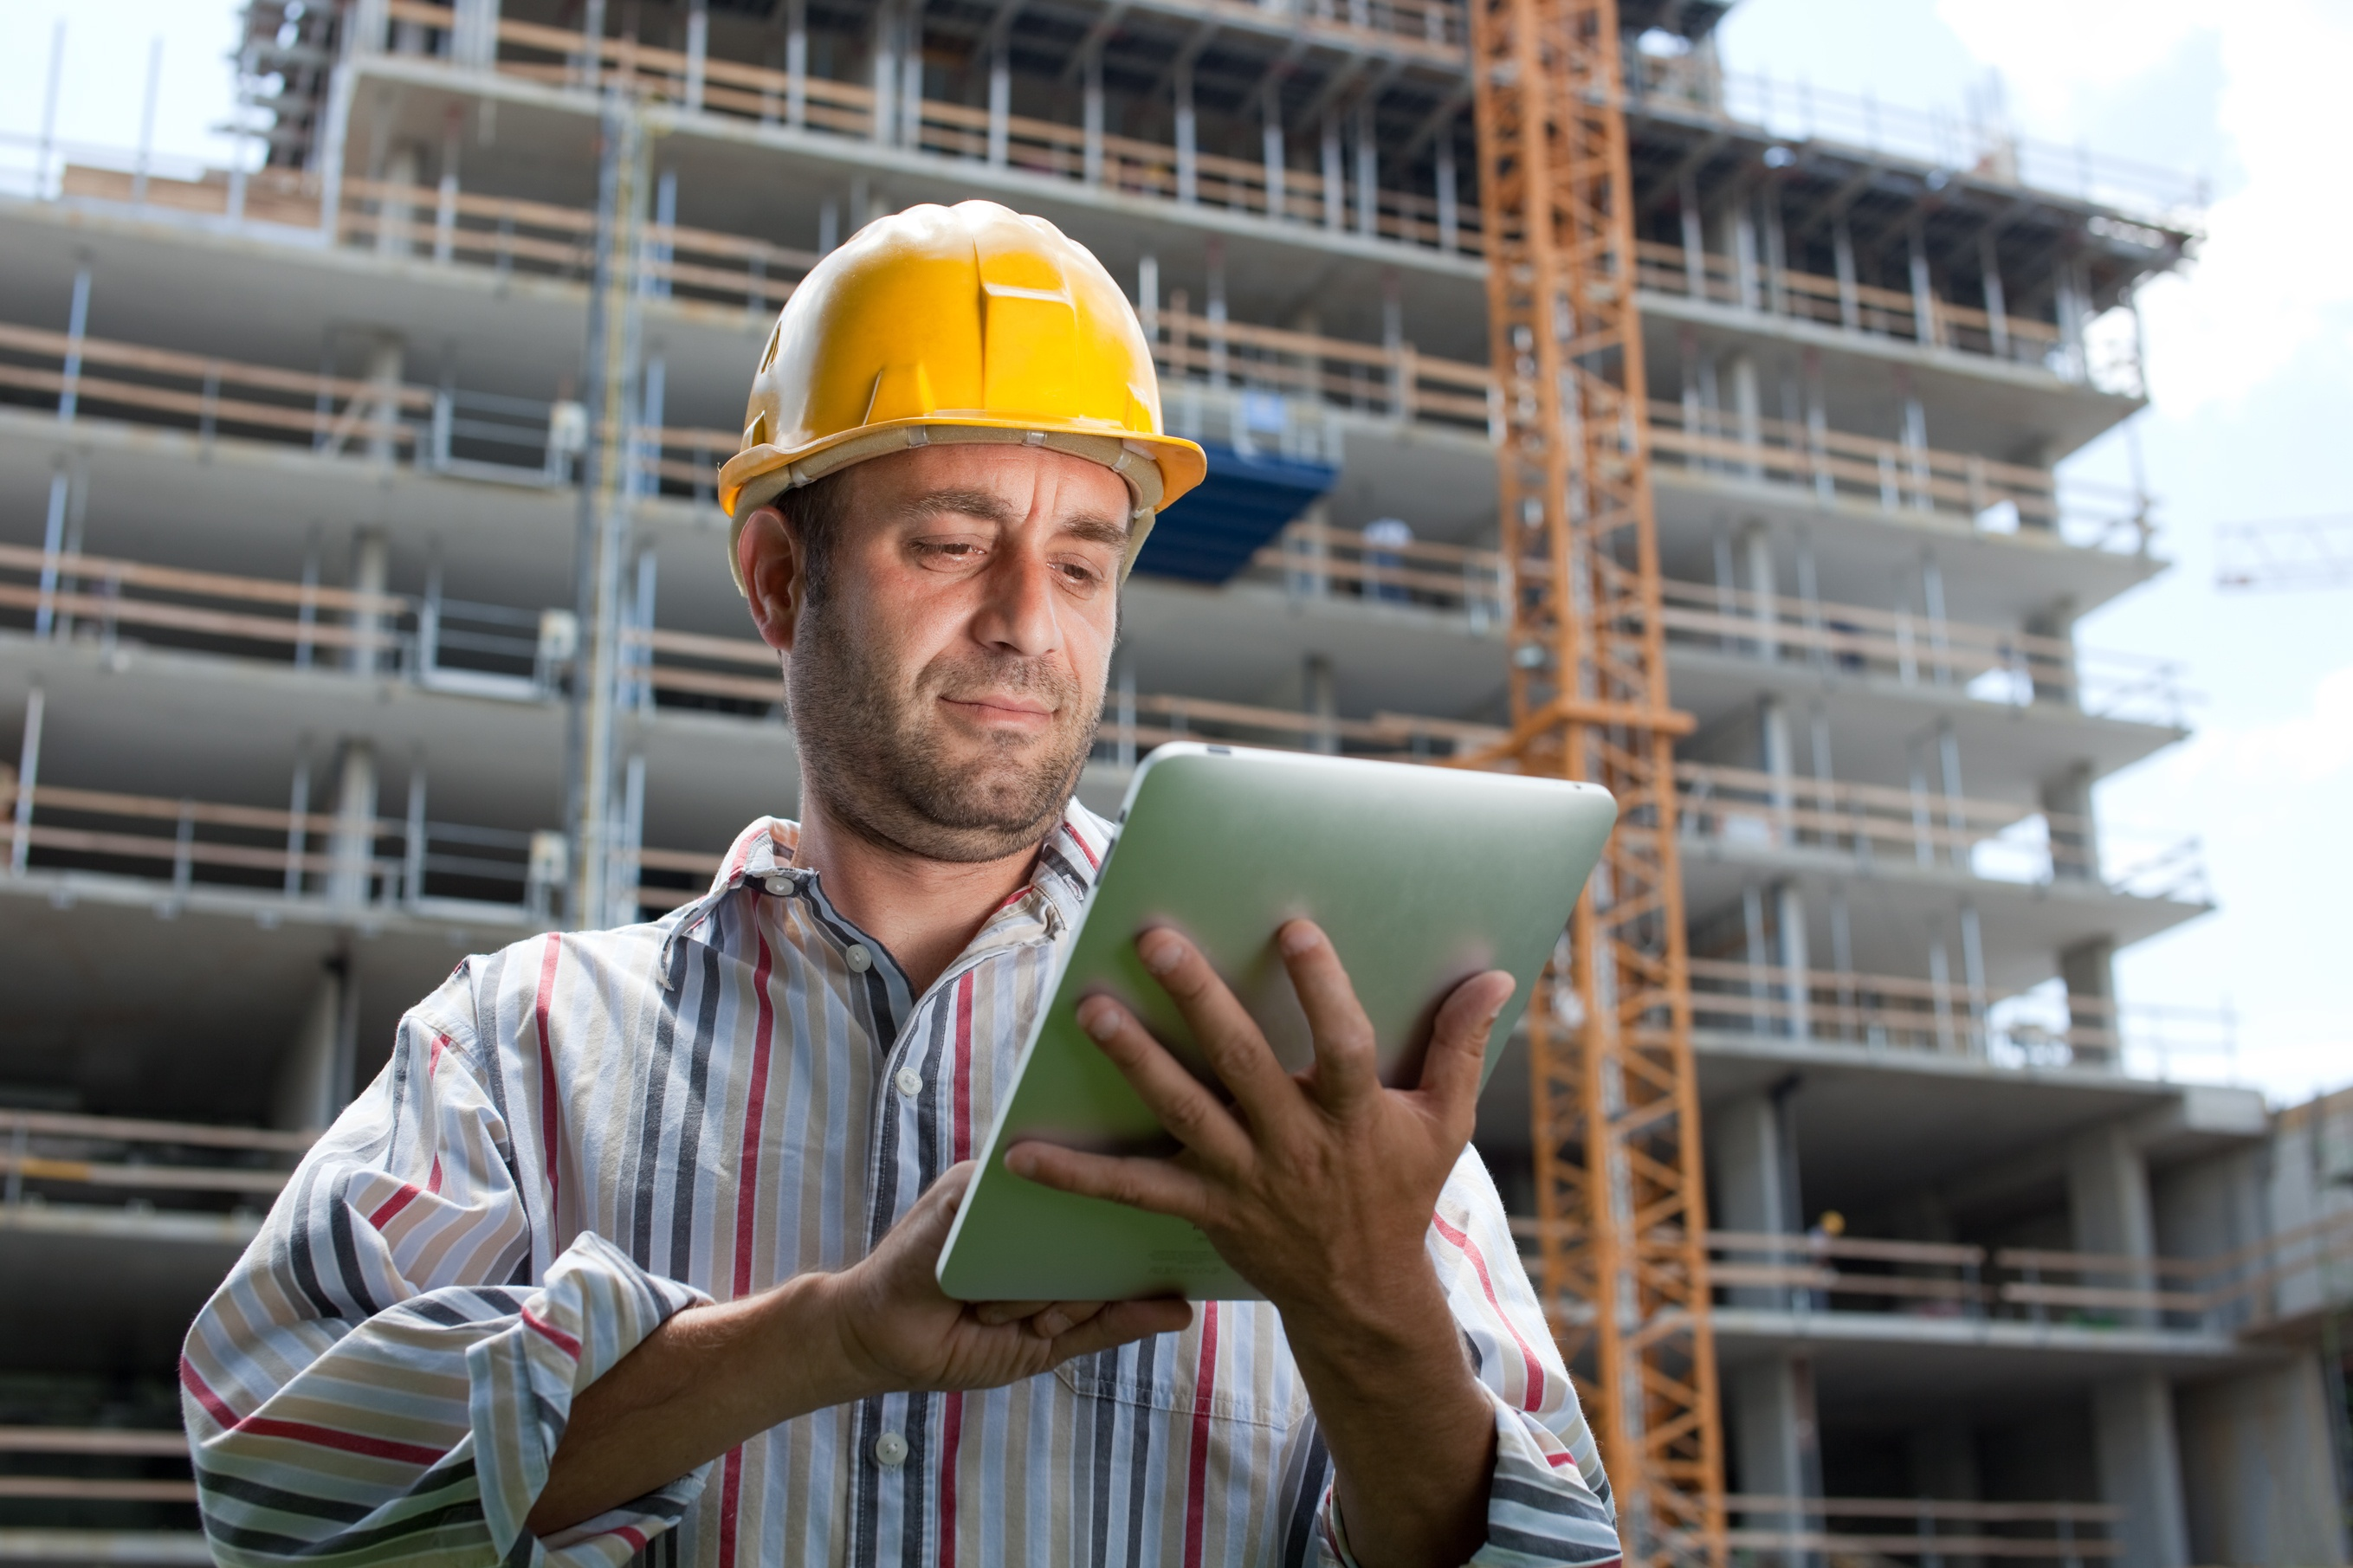yellow: (725, 206, 1192, 864)
